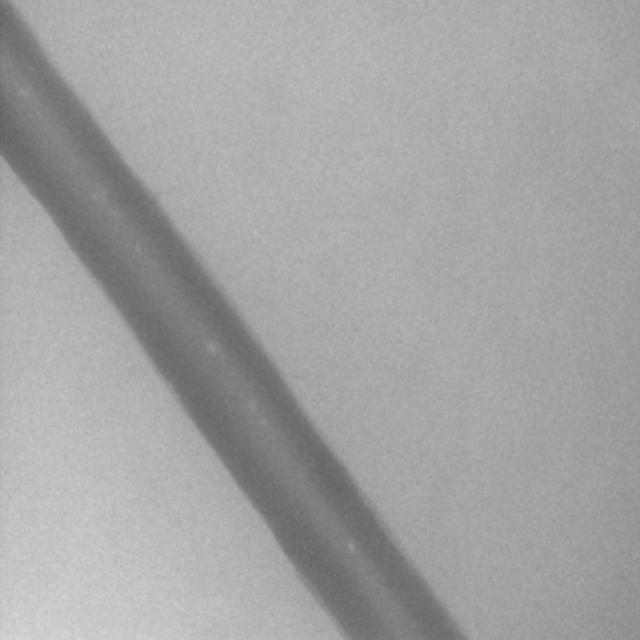air-hole: (91, 180, 110, 200), (204, 336, 217, 358), (108, 208, 121, 226), (345, 535, 356, 555), (248, 397, 258, 415), (259, 414, 266, 430), (134, 247, 143, 256)
